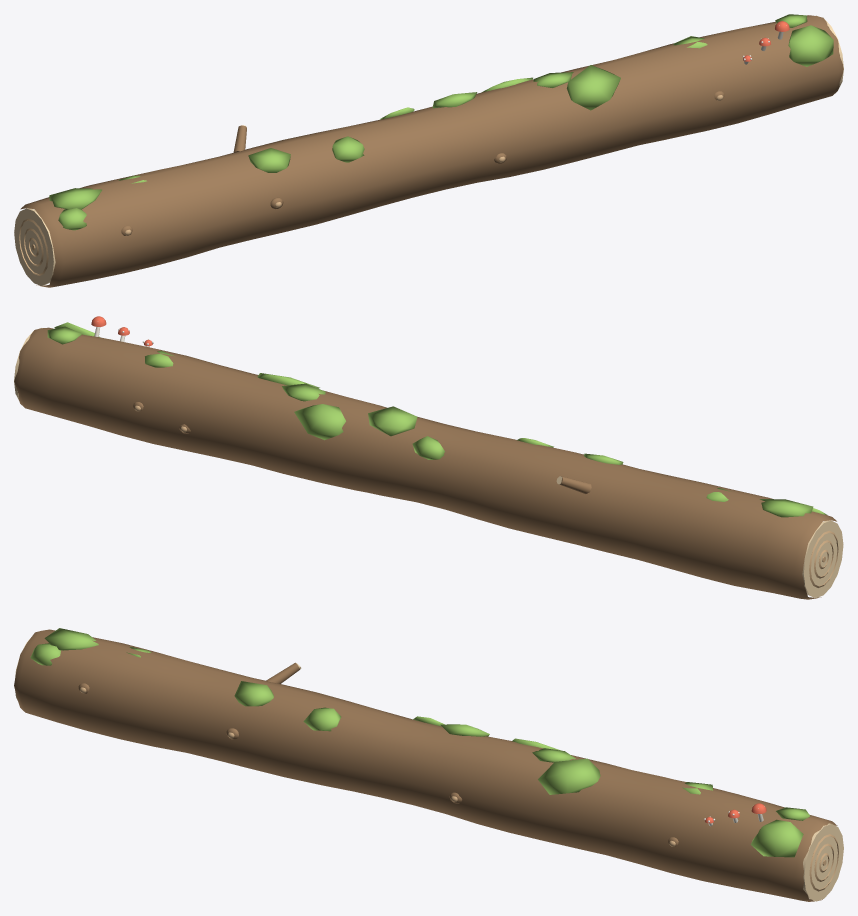
The model's file is log_long.glb.
3 renders of one model, top to bottom at view 1: azimuth 30°, elevation 25°; view 2: azimuth 150°, elevation 25°; view 3: azimuth 330°, elevation 25°, orthographic.
Visible parts, largest first — view 1: log_long; view 2: log_long; view 3: log_long.
Boxes of the visible parts, x1=… form: log_long: x1=14, y1=14, x2=843, y2=287; log_long: x1=14, y1=316, x2=843, y2=599; log_long: x1=14, y1=628, x2=843, y2=901.
Bounding box in the file's own units: 6.01 × 0.7143 × 0.7094.
